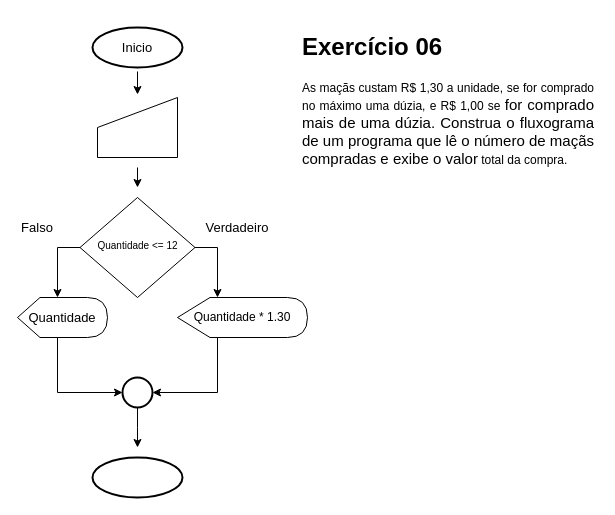
The diagram is 615 pixels wide and 515 high, and some of its shapes have lost their labels. Each missing label, with the box of its shape:
Fim: (91, 456, 183, 498)
Quantidade (Float): (96, 96, 178, 158)
